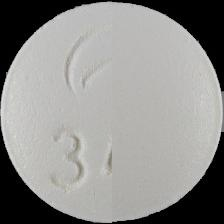45963-341: (0, 0, 224, 224)
